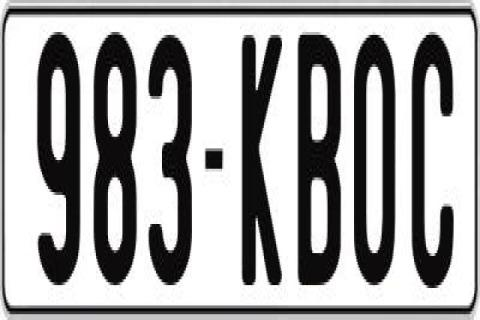0: (35, 24, 86, 294), (92, 29, 142, 299), (148, 27, 196, 286), (352, 35, 392, 288)
B: (294, 27, 344, 280)
C: (412, 35, 456, 303)
K: (239, 35, 285, 291)
